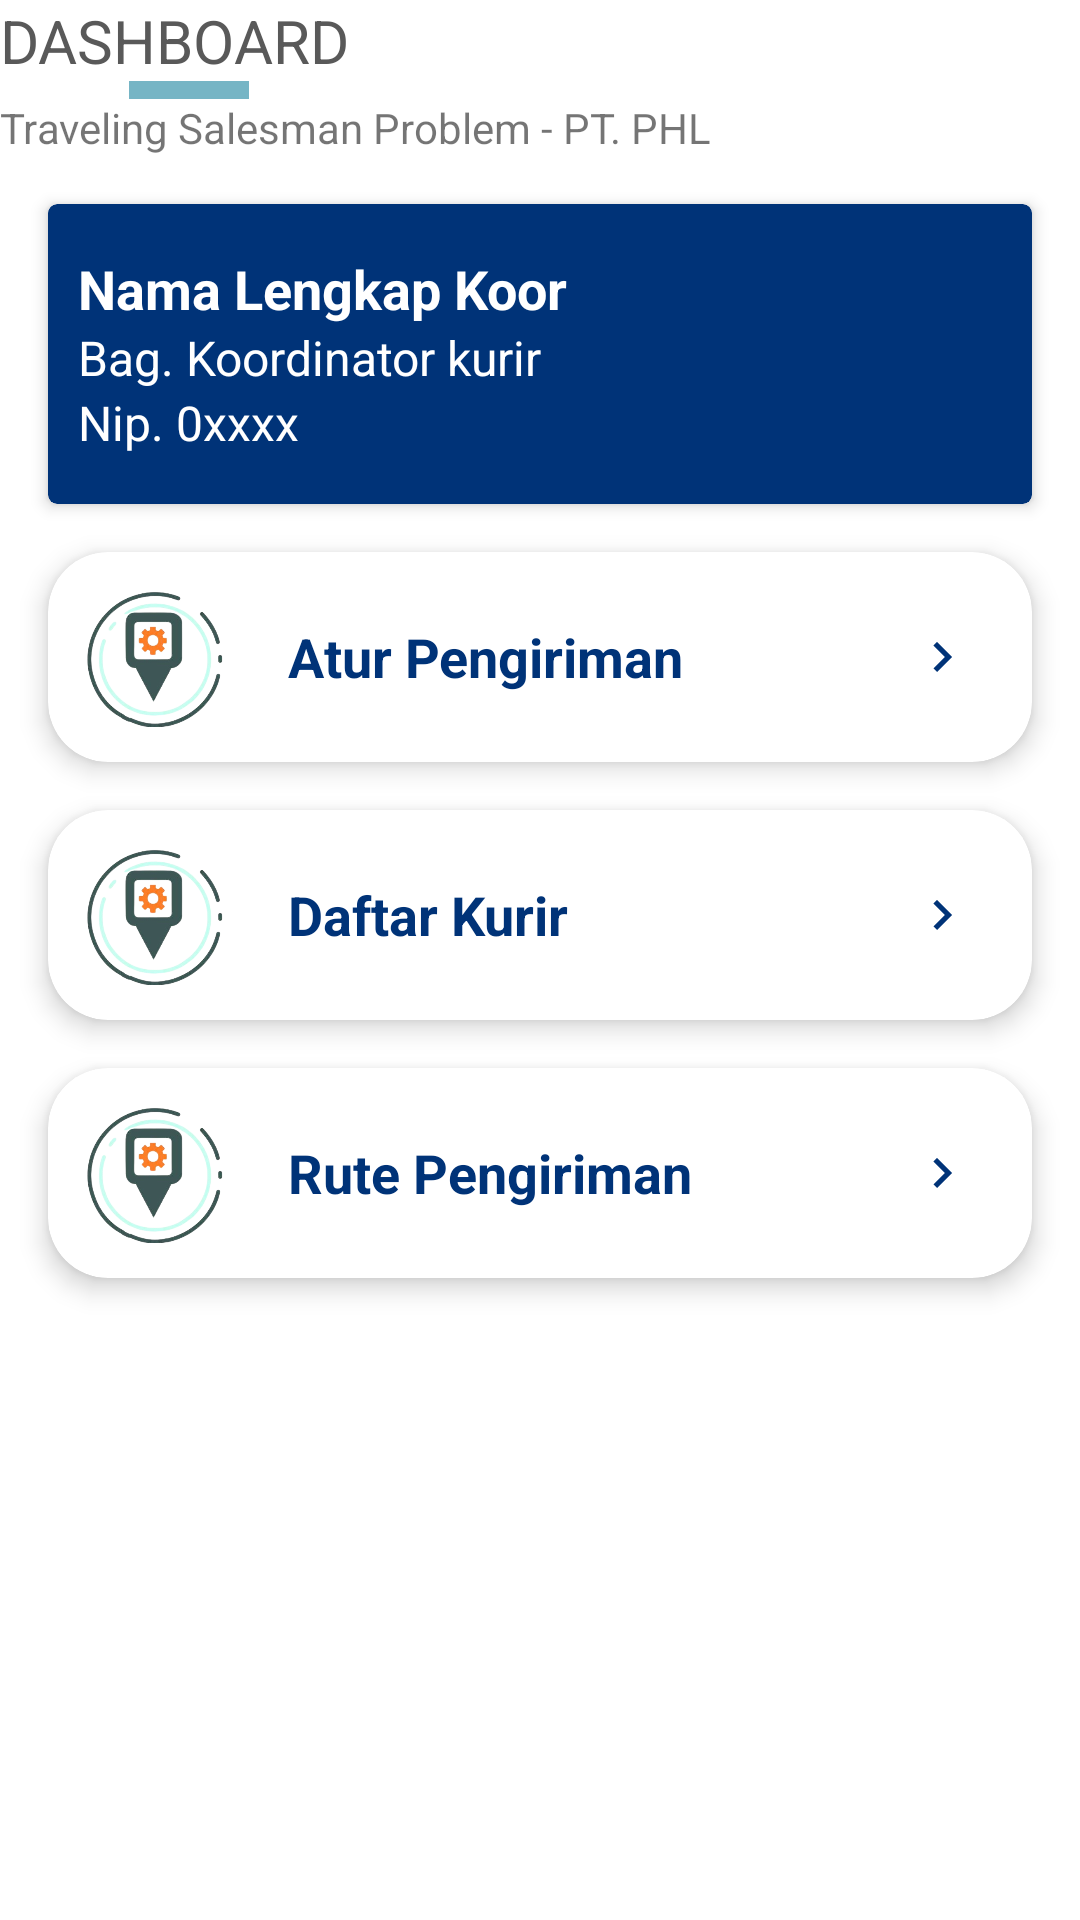

Icon click points for this 1080px×1920px phone screenshot, format (x,y):
keyboard arrow right: (942,657), (942,915), (942,1173)
settingkirim: (139,652), (136,915), (154,1175)
